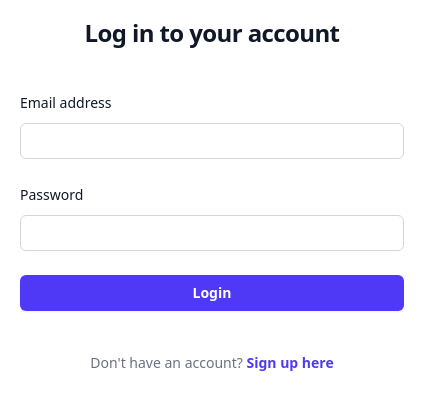
Test: Login functionality › Shows error when logging in with wrong password
Expected: the heading "Log in to your account" is shown, [84,16,339,49]
Expected: the password field labelled "Password" is shown, [20,215,404,251]
Type "peter@abv.bg" into the field labelled "Email address" at (212, 141), box [20,123,404,159]
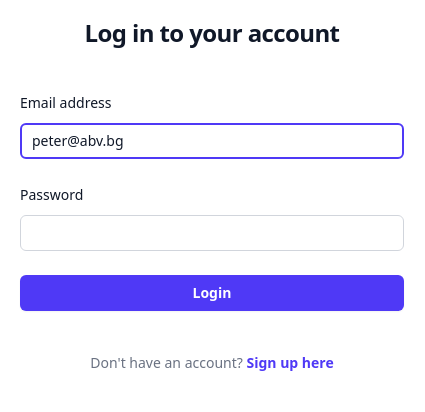
Type "wrongPassword" into the password field labelled "Password" at (212, 233), box [20,215,404,251]
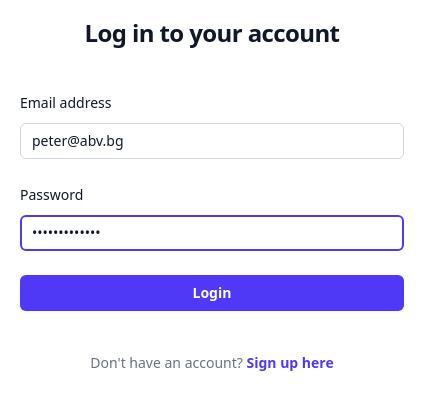
Click the button "Login" at (212, 293), box [20,275,404,311]
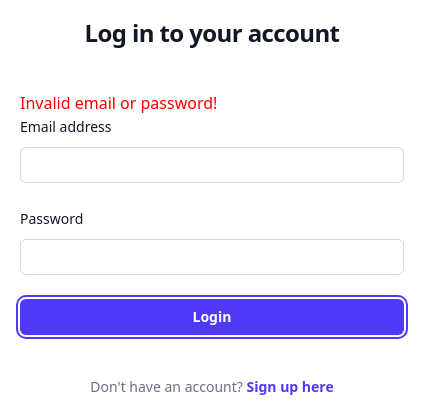
Result: the text "Invalid email or password!" is shown at [20,92,217,114]
